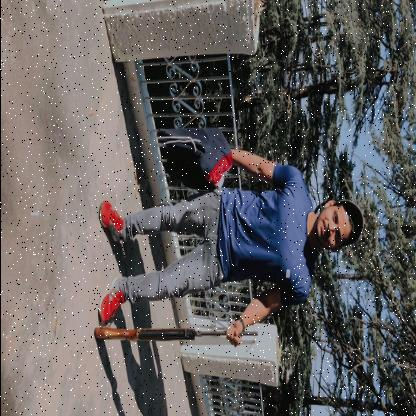rifle: (92, 323, 258, 345)
